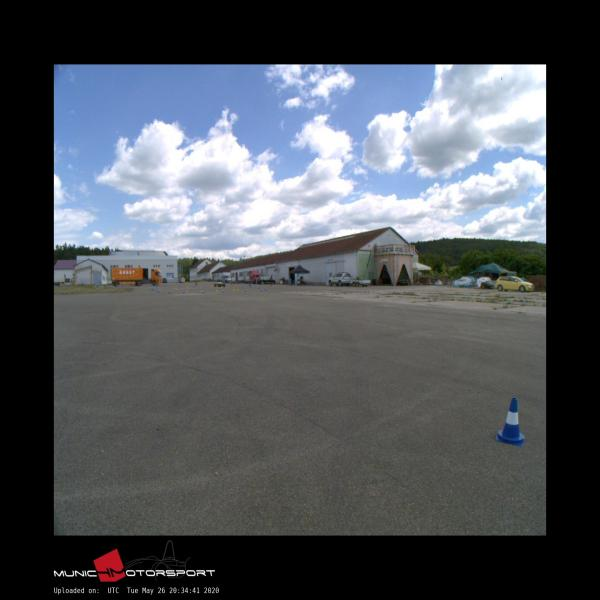blue_cone: (496, 398, 526, 446)
